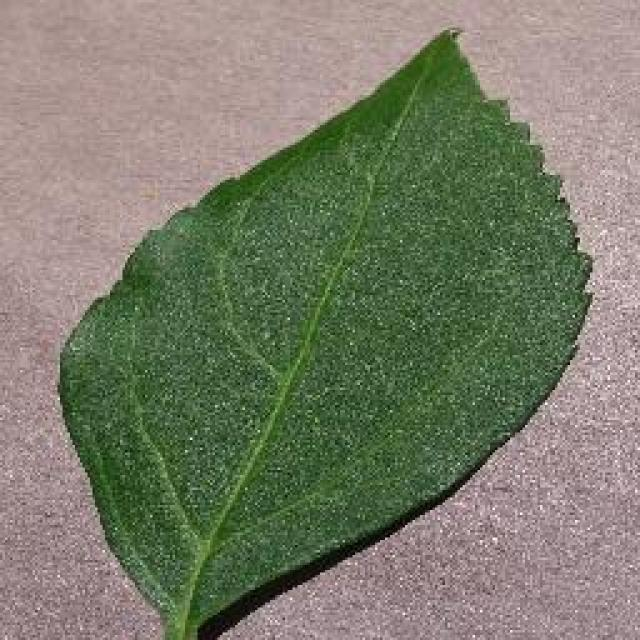Cherry___healthy: (75, 89, 572, 589)
